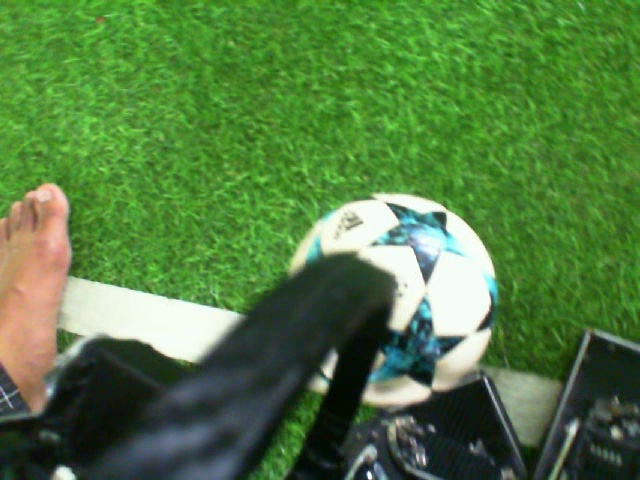ball: (354, 191, 499, 412)
